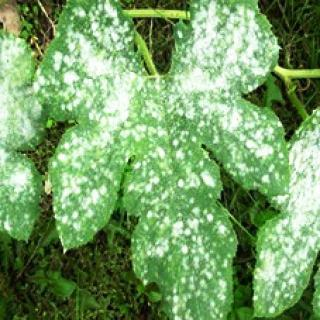grey mildew: (36, 1, 319, 320)
